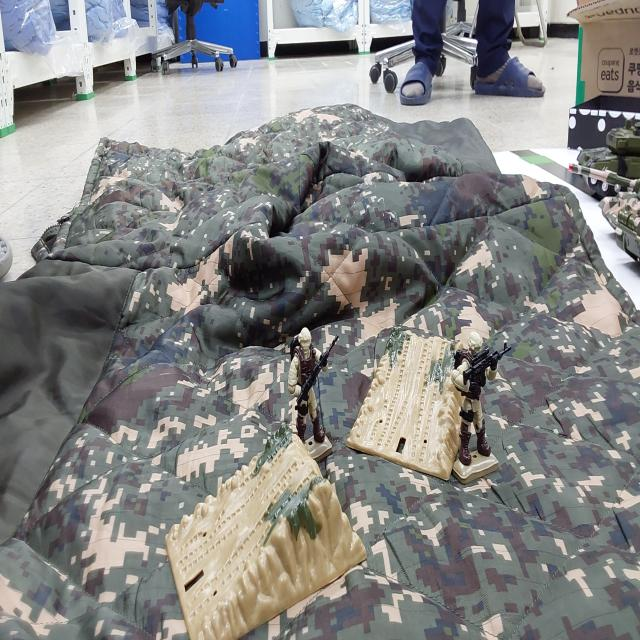ally: (450, 331, 510, 482), (288, 327, 339, 465)
